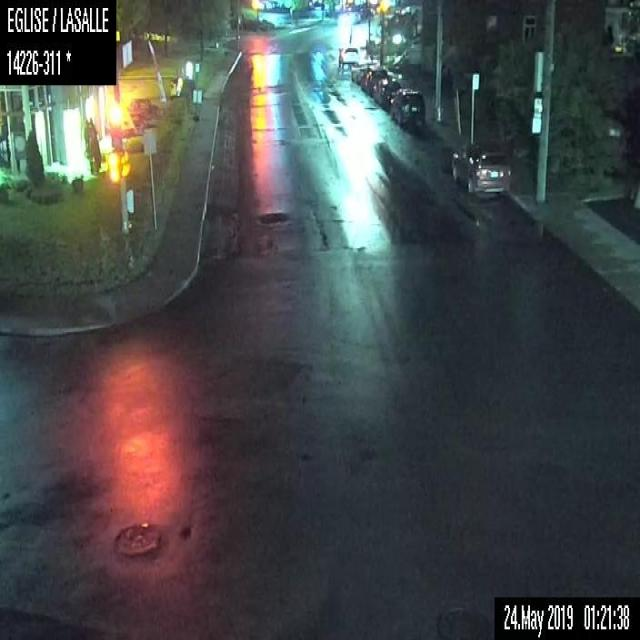vehicle: (449, 141, 511, 192), (390, 89, 426, 127), (371, 76, 401, 108), (361, 64, 387, 94), (350, 60, 377, 86), (337, 42, 360, 70)
